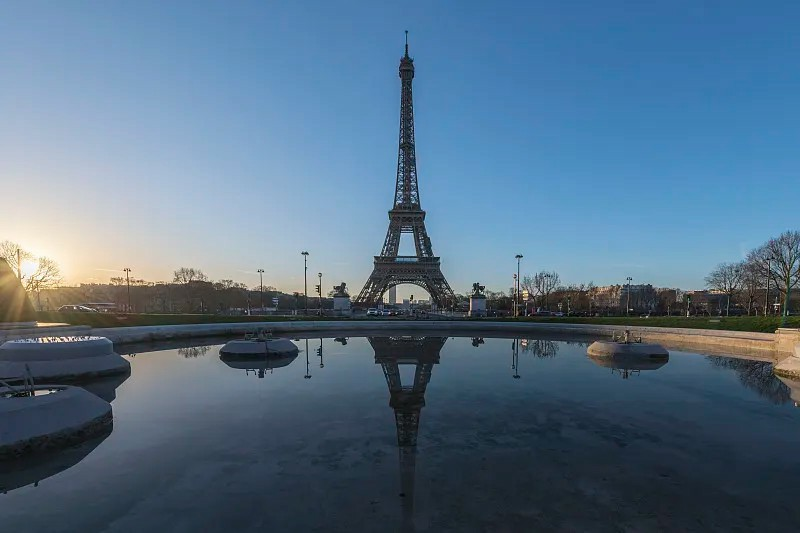Eiffel: (352, 31, 458, 311)
